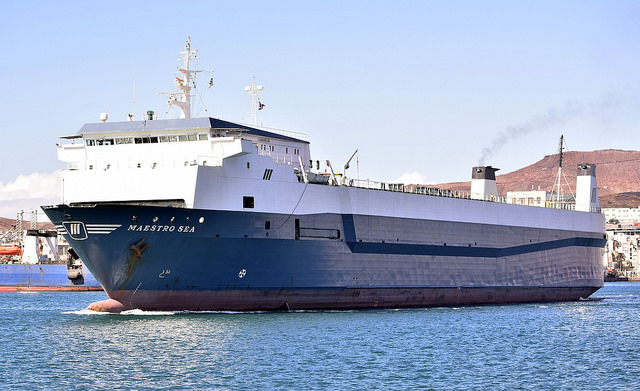PCC: (43, 61, 616, 317)
